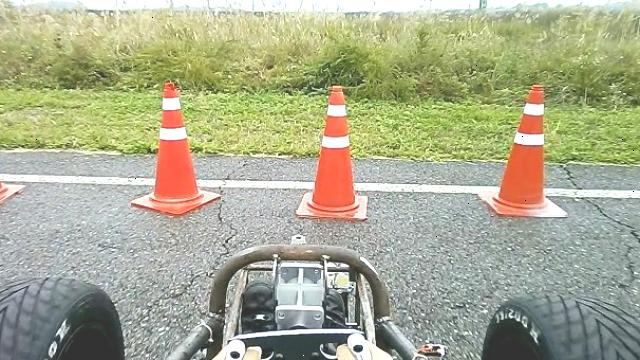red cone: (131, 79, 222, 215), (478, 83, 568, 218), (296, 84, 368, 220), (0, 112, 27, 208)
